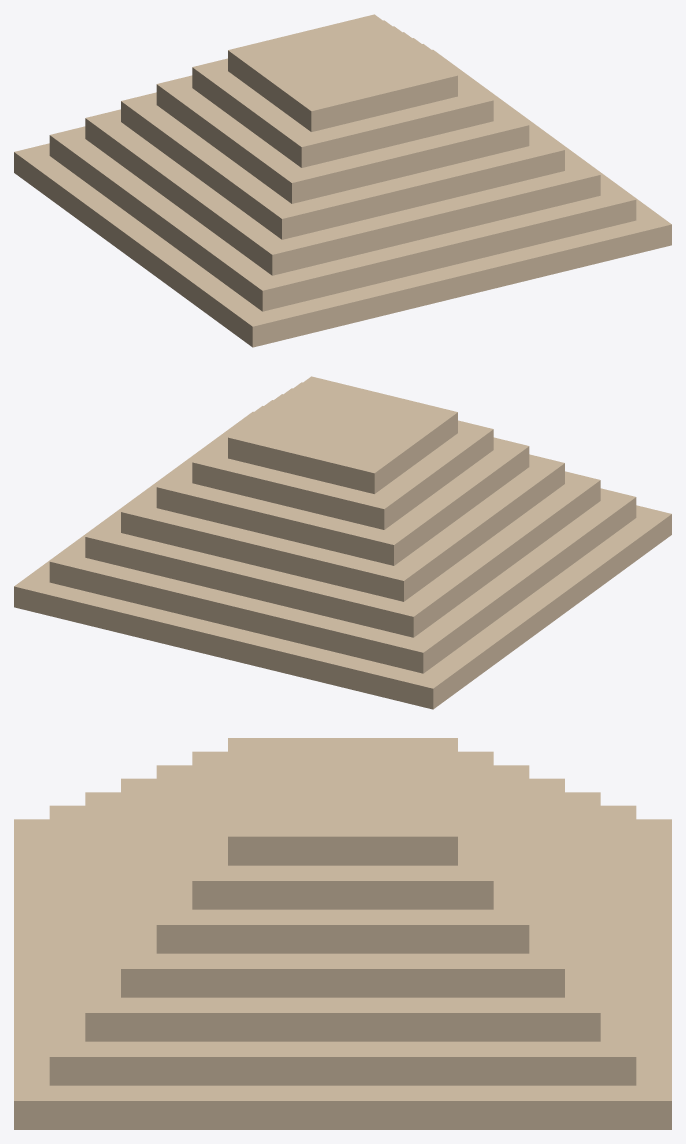
Rendered from place-teotihuacan.glb.
The picture shows the model from 3 angles, top to bottom: view 1: azimuth 30°, elevation 25°; view 2: azimuth 150°, elevation 25°; view 3: azimuth 270°, elevation 25°; orthographic projection. The views are drawn at different scales.
Parts seen in each view (by area): view 1: place-teotihuacan; view 2: place-teotihuacan; view 3: place-teotihuacan.
Part boxes in pixels (x1=…): place-teotihuacan: x1=14, y1=14, x2=671, y2=347; place-teotihuacan: x1=14, y1=376, x2=671, y2=709; place-teotihuacan: x1=14, y1=738, x2=671, y2=1129.
Bounding box in the file's own units: 225 × 75 × 222.
